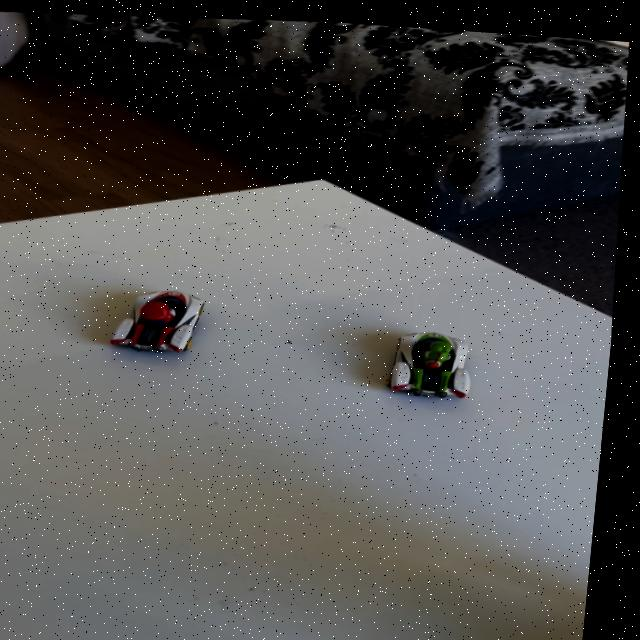mario: (95, 275, 234, 361)
yoshi: (367, 313, 491, 405)
